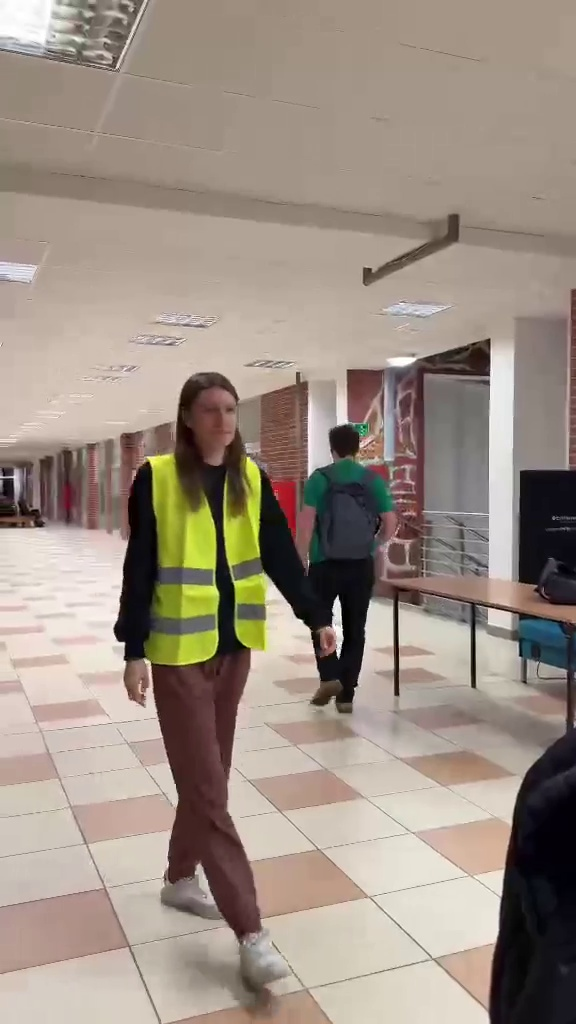no vest: (300, 416, 398, 702)
vest: (120, 353, 300, 987)
